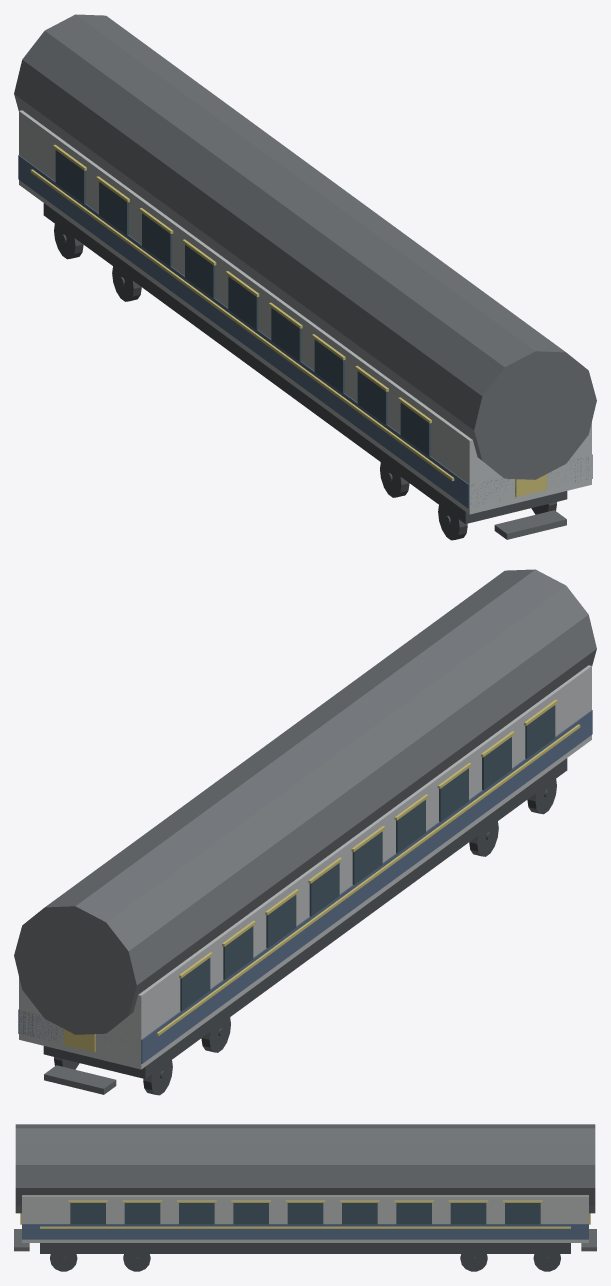
Rendered from br_mk1_blue_grey_coach.glb.
The picture shows the model from 3 angles, top to bottom: view 1: azimuth 30°, elevation 25°; view 2: azimuth 150°, elevation 25°; view 3: azimuth 270°, elevation 25°; orthographic projection. The views are drawn at different scales.
Visible parts, largest first — view 1: coach_roof, coach_body, lower_waist, underframe, waistline_L, end_step_8.131, window_L_8, window_L_0, window_L_4, window_L_6, window_L_5, window_L_7 (+3 smaller); view 2: coach_roof, coach_body, lower_waist, underframe, waistline_L, end_step_-8.131, window_L_0, window_L_2, window_L_4, window_L_8, window_L_1, window_L_3 (+3 smaller); view 3: coach_roof, coach_body, lower_waist, underframe, waistline_R, window_R_1, window_R_4, window_R_7, window_R_0, window_R_2, window_R_3, window_R_5 (+8 smaller).
Part boxes in pixels (x1=…): coach_roof: x1=14, y1=14, x2=596, y2=479; coach_body: x1=19, y1=110, x2=591, y2=514; lower_waist: x1=18, y1=155, x2=592, y2=508; underframe: x1=43, y1=203, x2=567, y2=523; waistline_L: x1=30, y1=169, x2=454, y2=481; end_step_8.131: x1=494, y1=510, x2=566, y2=539; window_L_8: x1=400, y1=403, x2=430, y2=456; window_L_0: x1=55, y1=150, x2=85, y2=203; window_L_4: x1=228, y1=276, x2=258, y2=329; window_L_6: x1=314, y1=340, x2=344, y2=393; window_L_5: x1=271, y1=308, x2=301, y2=361; window_L_7: x1=357, y1=371, x2=387, y2=424; coach_roof: x1=14, y1=569, x2=596, y2=1034; coach_body: x1=19, y1=665, x2=591, y2=1069; lower_waist: x1=18, y1=710, x2=592, y2=1063; underframe: x1=43, y1=758, x2=567, y2=1078; waistline_L: x1=156, y1=724, x2=580, y2=1036; end_step_-8.131: x1=44, y1=1065, x2=116, y2=1094; window_L_0: x1=180, y1=958, x2=210, y2=1011; window_L_2: x1=266, y1=895, x2=296, y2=948; window_L_4: x1=352, y1=831, x2=382, y2=884; window_L_8: x1=525, y1=705, x2=555, y2=758; window_L_1: x1=223, y1=926, x2=253, y2=979; window_L_3: x1=309, y1=863, x2=339, y2=916; coach_roof: x1=15, y1=1124, x2=595, y2=1213; coach_body: x1=22, y1=1195, x2=588, y2=1242; lower_waist: x1=22, y1=1224, x2=588, y2=1239; underframe: x1=40, y1=1243, x2=570, y2=1253; waistline_R: x1=40, y1=1226, x2=570, y2=1228; window_R_1: x1=450, y1=1203, x2=486, y2=1224; window_R_4: x1=287, y1=1203, x2=323, y2=1224; window_R_7: x1=124, y1=1203, x2=160, y2=1224; window_R_0: x1=505, y1=1203, x2=540, y2=1224; window_R_2: x1=396, y1=1203, x2=431, y2=1224; window_R_3: x1=342, y1=1203, x2=377, y2=1224; window_R_5: x1=233, y1=1203, x2=268, y2=1224.
Bounding box in the file's own units: 2.67 × 4.05 × 16.71.
